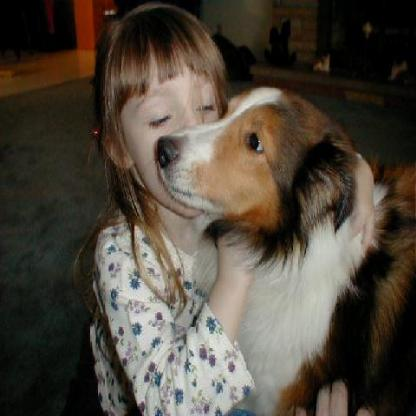Shetland_sheepdog: (151, 78, 414, 414)
